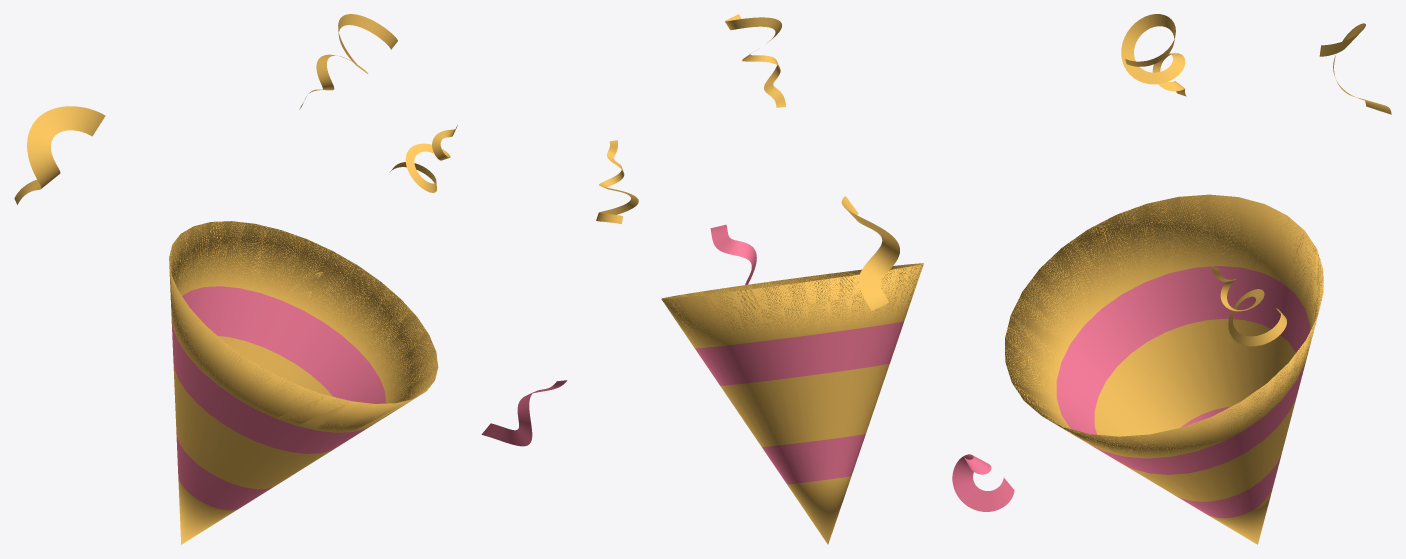
The model's file is party.glb.
3 renders of one model, left to right at view 1: azimuth 30°, elevation 25°; view 2: azimuth 150°, elevation 25°; view 3: azimuth 270°, elevation 25°, orthographic. The views are drawn at different scales.
Visible parts, largest first — view 1: Cone, Helix.001, Helix.003, Helix.002, Helix; view 2: Cone, Helix.001, Helix.003, Helix, Helix.002; view 3: Cone, Helix.003, Helix.002, Helix, Helix.001.
Part boxes in pixels (x1,y1,x2,y2): Cone: (169, 221, 438, 544); Helix.001: (14, 106, 105, 204); Helix.003: (299, 14, 397, 109); Helix.002: (481, 380, 567, 446); Helix: (390, 125, 457, 192); Cone: (661, 263, 923, 544); Helix.001: (841, 196, 899, 311); Helix.003: (725, 14, 786, 107); Helix: (596, 140, 638, 224); Helix.002: (710, 224, 756, 284); Cone: (1005, 194, 1323, 544); Helix.003: (1121, 14, 1186, 96); Helix.002: (952, 454, 1014, 511); Helix: (1211, 266, 1286, 346); Helix.001: (1319, 23, 1391, 114).
Size of the model in its own units: 0.7818 by 1.05 by 0.7013.
